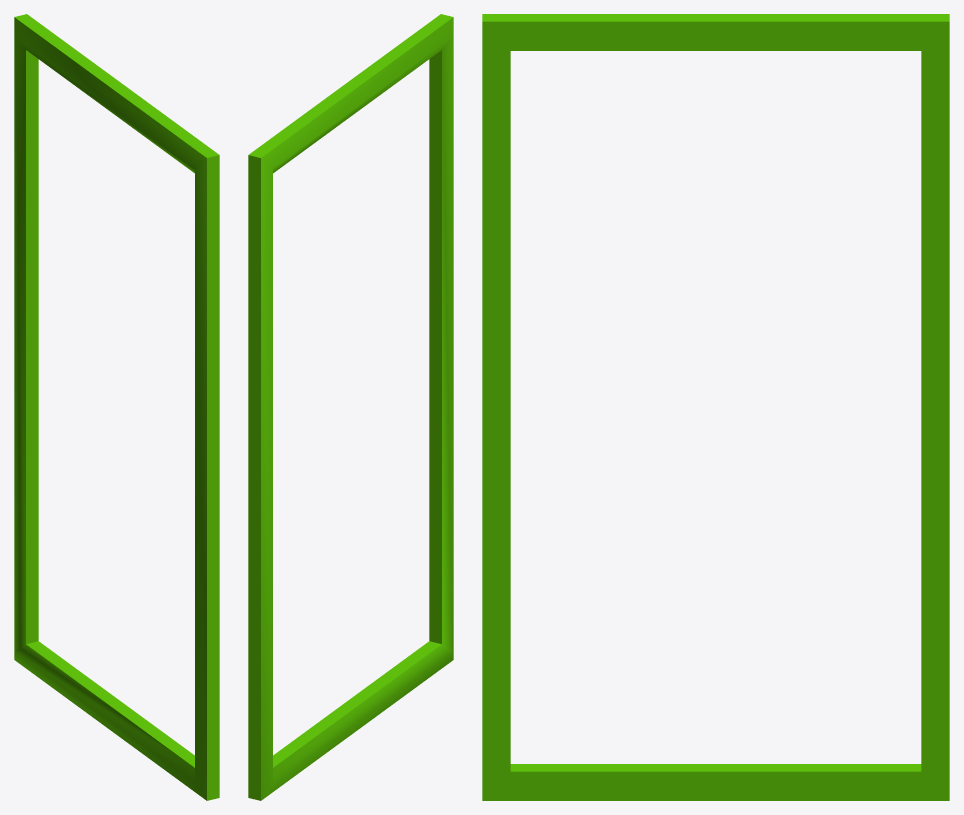
File: Window.fbx
3 renders of one model, left to right at view 1: azimuth 30°, elevation 25°; view 2: azimuth 150°, elevation 25°; view 3: azimuth 270°, elevation 25°, orthographic. The views are drawn at different scales.
Parts seen in each view (by area): view 1: Window; view 2: Window; view 3: Window.
Part boxes in pixels (box(x1,y1,x2,y2)): Window: box(14, 14, 219, 800); Window: box(248, 14, 453, 800); Window: box(482, 14, 949, 800).
Size of the model in its own units: 47.21 by 1606 by 872.
